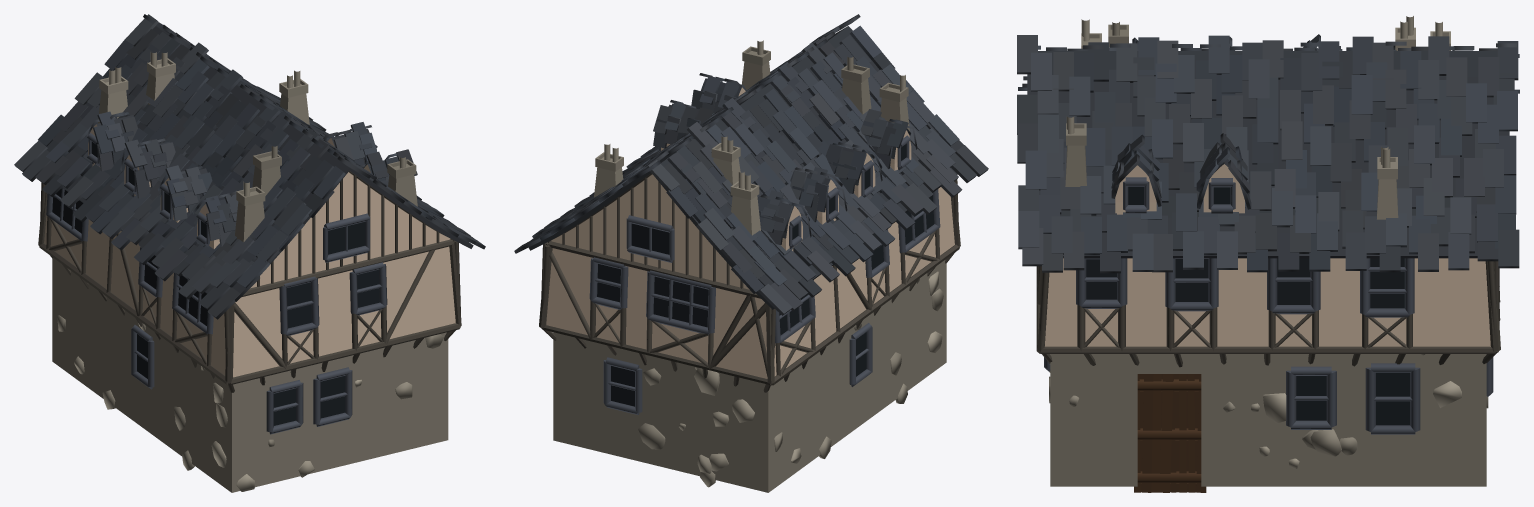
File: house_39.glb
The picture shows the model from 3 angles, left to right: view 1: azimuth 30°, elevation 25°; view 2: azimuth 150°, elevation 25°; view 3: azimuth 270°, elevation 25°; orthographic projection. The views are drawn at different scales.
Visible parts, largest first — view 1: house_39; view 2: house_39; view 3: house_39.
Part boxes in pixels (x1,y1,x2,y2): house_39: (14, 14, 485, 492); house_39: (514, 14, 988, 492); house_39: (1017, 16, 1519, 492).
Bounding box in the file's own units: 6.02 × 6.78 × 7.79.
